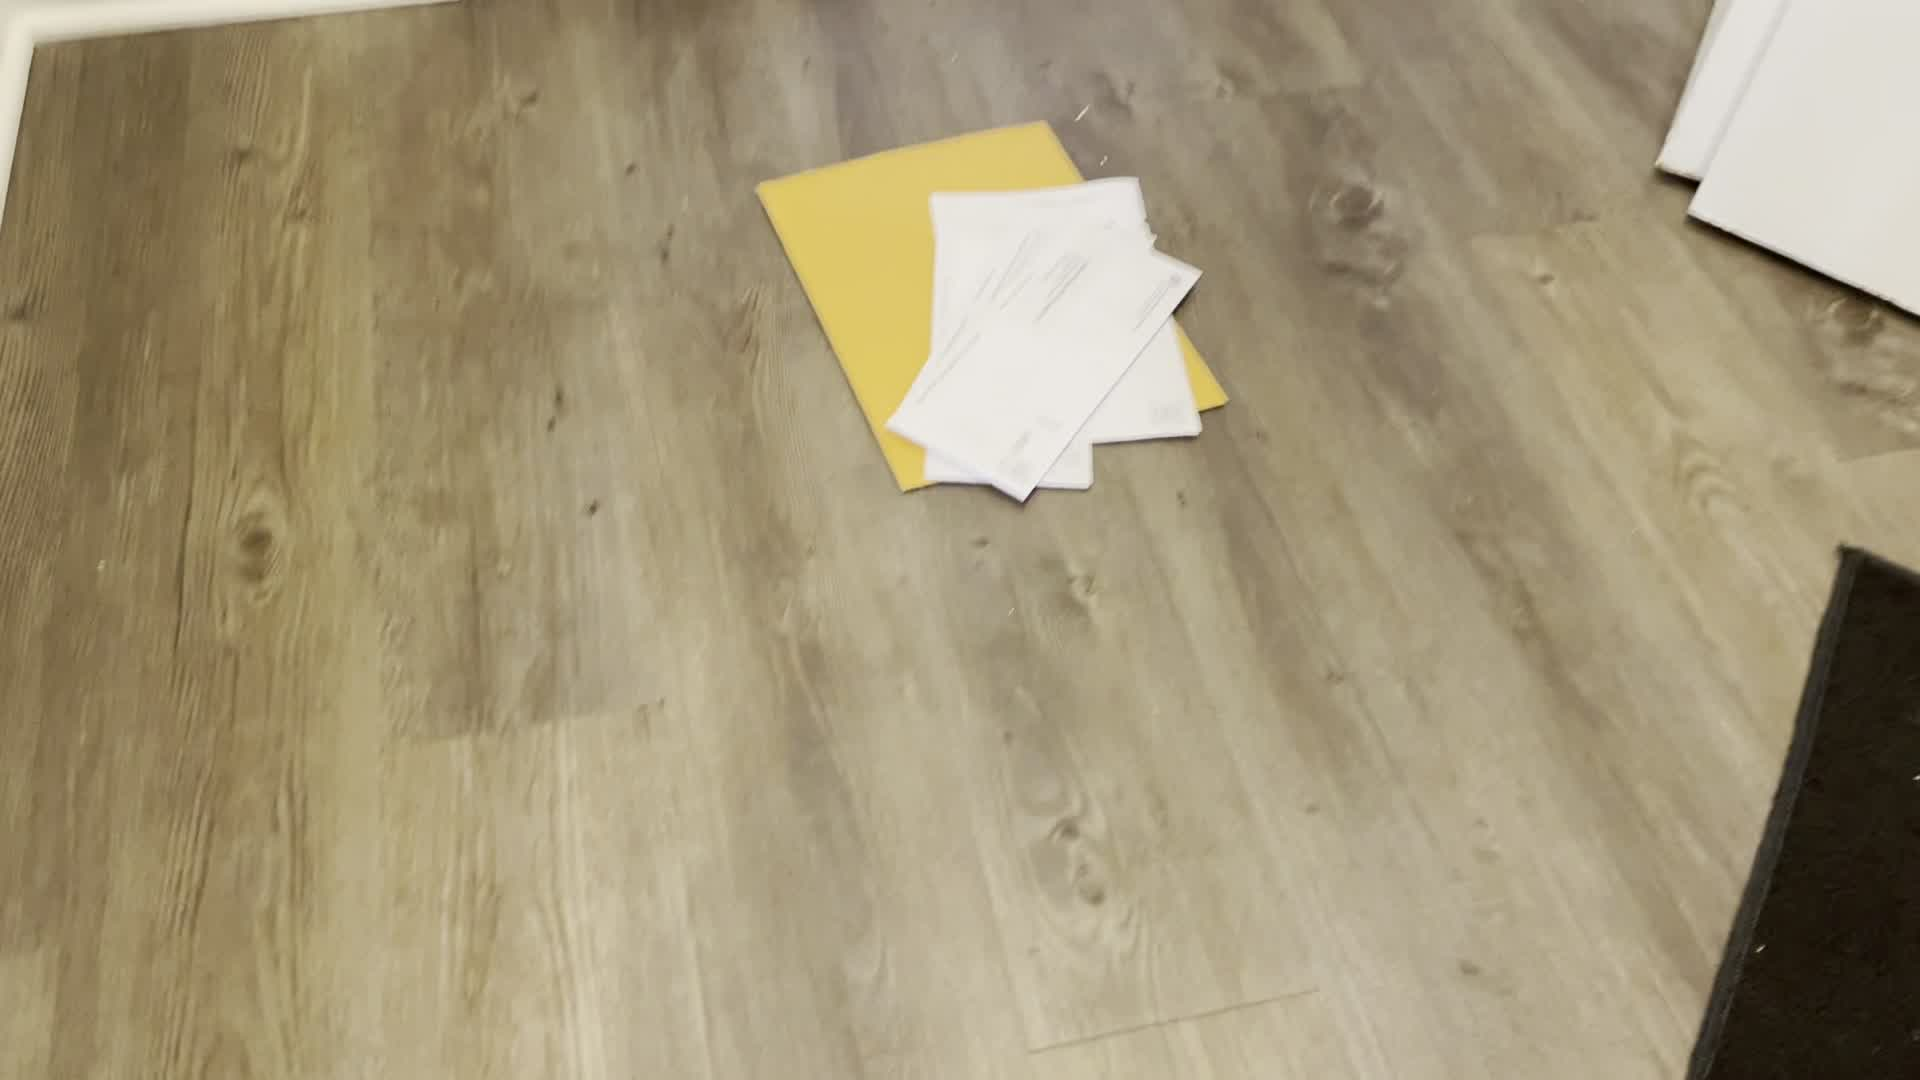envelope: (752, 109, 1242, 520), (881, 203, 1211, 498)
